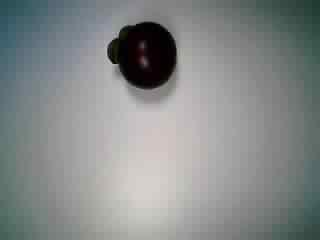mangosteen: (102, 18, 179, 97)
